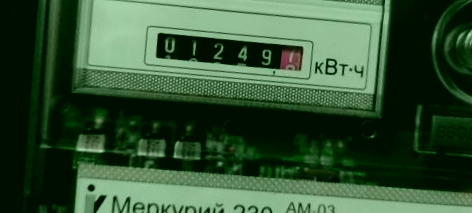0: (162, 33, 178, 55)
1: (187, 37, 199, 57)
2: (211, 40, 226, 61)
4: (236, 42, 249, 63)
7: (284, 44, 298, 64)
9: (258, 45, 274, 68)
screen: (135, 17, 314, 85)
